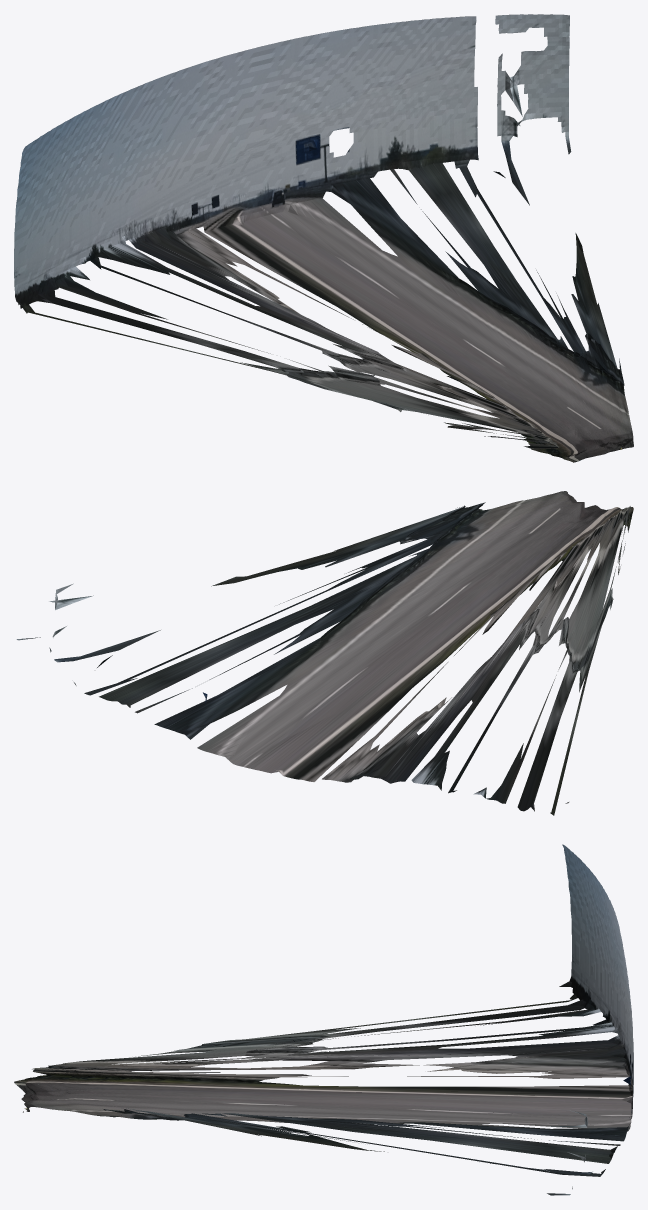
3 renders of one model, top to bottom at view 1: azimuth 30°, elevation 25°; view 2: azimuth 150°, elevation 25°; view 3: azimuth 270°, elevation 25°, orthographic. The views are drawn at different scales.
Visible parts, largest first — view 1: defaultobject; view 2: defaultobject; view 3: defaultobject.
Boxes of the visible parts, x1,y1,x2,y2 form: defaultobject: (14, 14, 633, 462); defaultobject: (16, 491, 633, 815); defaultobject: (14, 844, 633, 1195).
Bounding box in the file's own units: 41.16 × 12.89 × 44.74.
Materials: 1 (1 with a texture image).
